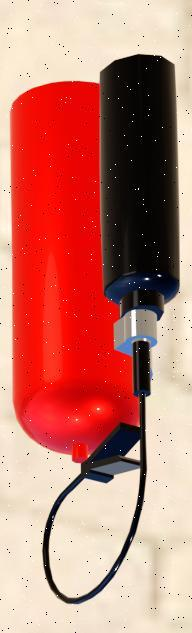Fire Extinguisher: (15, 52, 192, 620)
